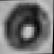correct: (1, 0, 50, 53)
